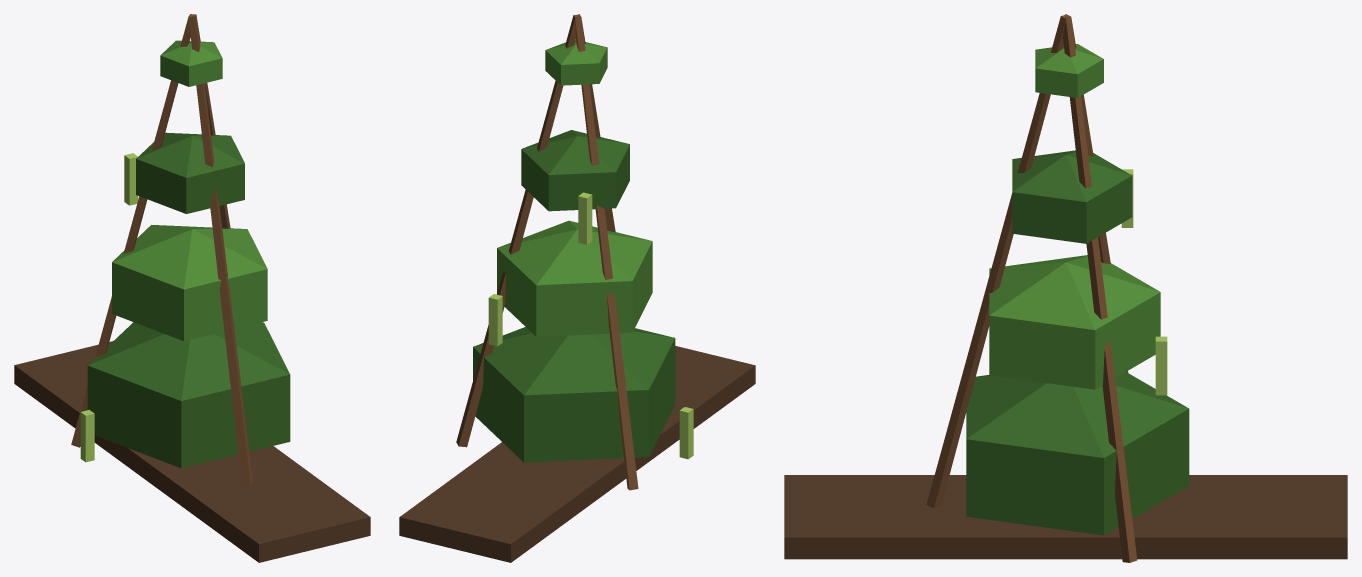
Rendered from crop_beans_3.glb.
3 renders of one model, left to right at view 1: azimuth 30°, elevation 25°; view 2: azimuth 150°, elevation 25°; view 3: azimuth 270°, elevation 25°, orthographic. The views are drawn at different scales.
Parts seen in each view (by area): view 1: crop_beans_3; view 2: crop_beans_3; view 3: crop_beans_3.
Boxes of the visible parts, left/top/right/bottom form: crop_beans_3: left=14, top=14, right=370, bottom=562; crop_beans_3: left=399, top=14, right=755, bottom=562; crop_beans_3: left=784, top=14, right=1347, bottom=562.
Bounding box in the file's own units: 0.9191 × 1.9 × 1.9.
